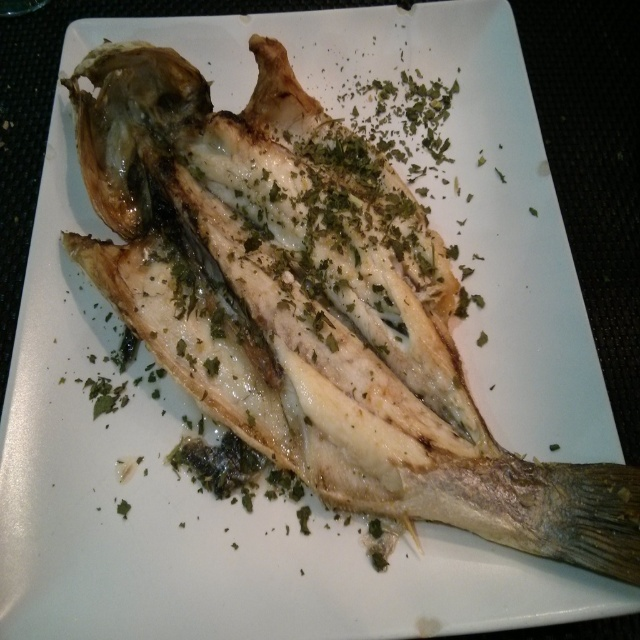Fish: (60, 34, 640, 587)
